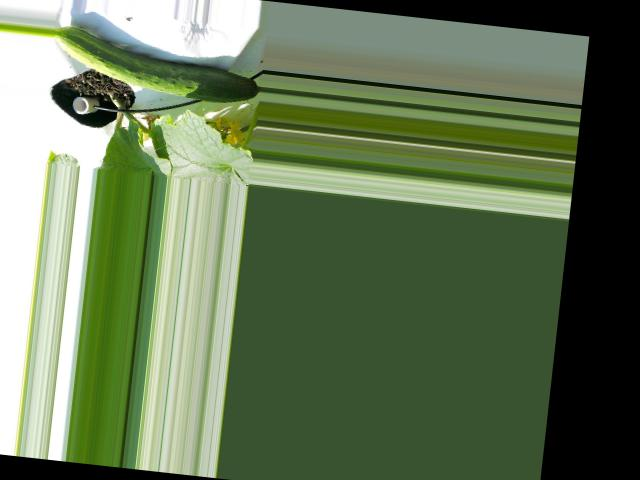cucumber: (47, 24, 264, 106)
